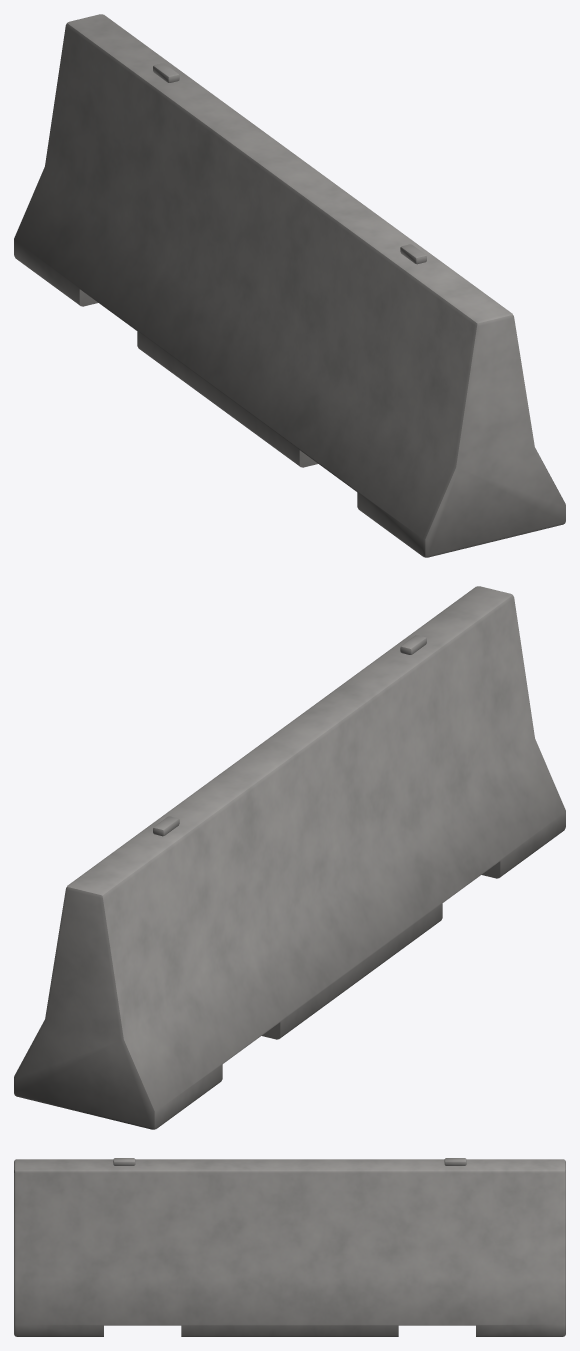
Rendered from SM_JerseyBarrier.fbx.
3 renders of one model, top to bottom at view 1: azimuth 30°, elevation 25°; view 2: azimuth 150°, elevation 25°; view 3: azimuth 270°, elevation 25°, orthographic. The views are drawn at different scales.
Visible parts, largest first — view 1: SM_JerseyBarrier; view 2: SM_JerseyBarrier; view 3: SM_JerseyBarrier.
Boxes of the visible parts, x1,y1,x2,y2 form: SM_JerseyBarrier: [14, 14, 565, 557]; SM_JerseyBarrier: [14, 586, 565, 1129]; SM_JerseyBarrier: [14, 1158, 565, 1336].
Size of what is drawn, in the model's own units: 0.6 by 0.93 by 3.
Materials: 1 (1 with a texture image).
